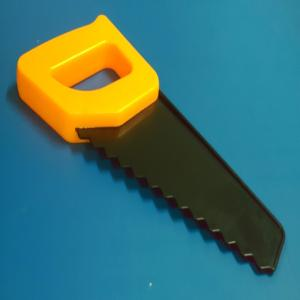serrote: (17, 15, 288, 273)
